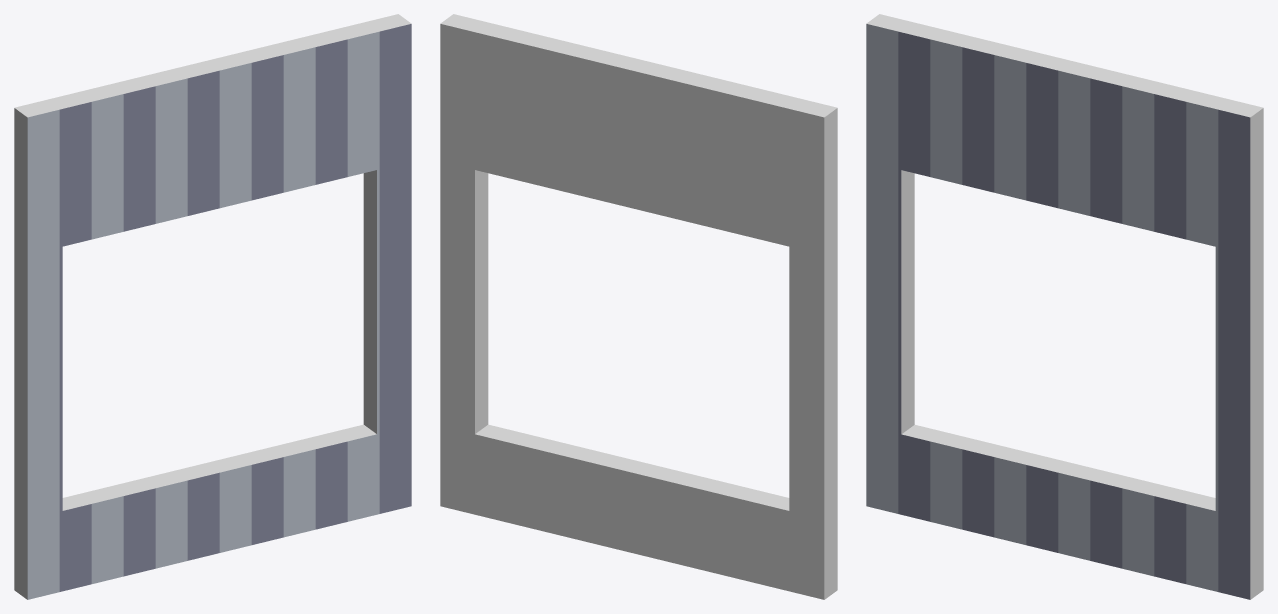
The model's file is Wall1_C8_05.fbx.
3 views of the same model, side by side, from view 1: azimuth 30°, elevation 25°; view 2: azimuth 150°, elevation 25°; view 3: azimuth 330°, elevation 25° (orthographic).
Parts seen in each view (by area): view 1: Wall1_C8_05; view 2: Wall1_C8_05; view 3: Wall1_C8_05.
Part boxes in pixels (bbox=[...]): Wall1_C8_05: bbox=[14, 14, 411, 599]; Wall1_C8_05: bbox=[440, 14, 837, 599]; Wall1_C8_05: bbox=[866, 14, 1263, 599].
Size of the model in its own units: 250 by 300 by 15.
